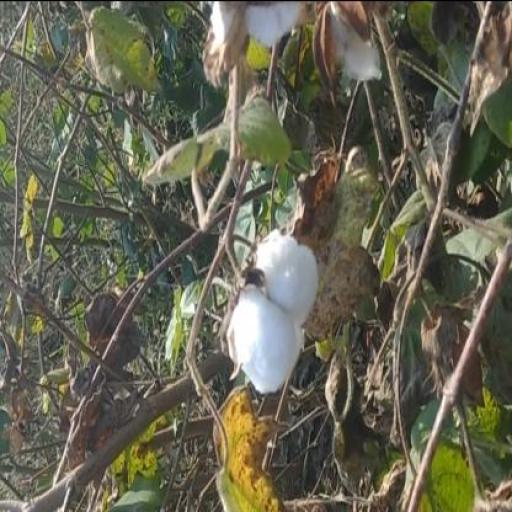cotton_ready: (206, 223, 331, 438)
